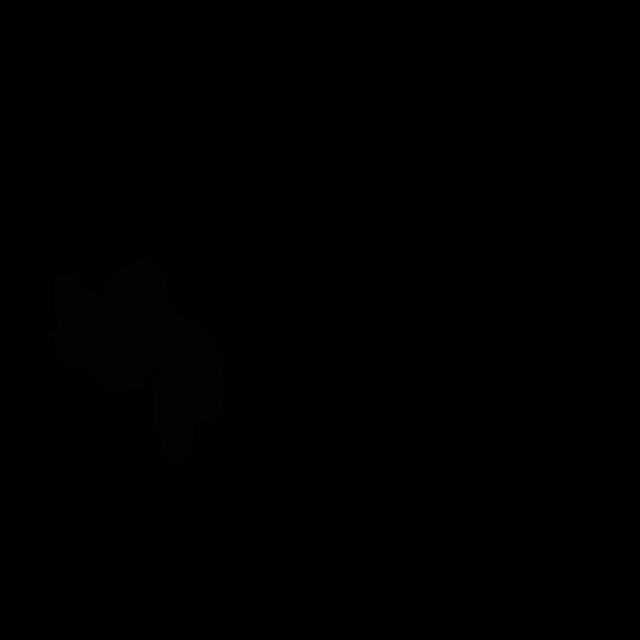cardboard: (52, 258, 224, 463)
